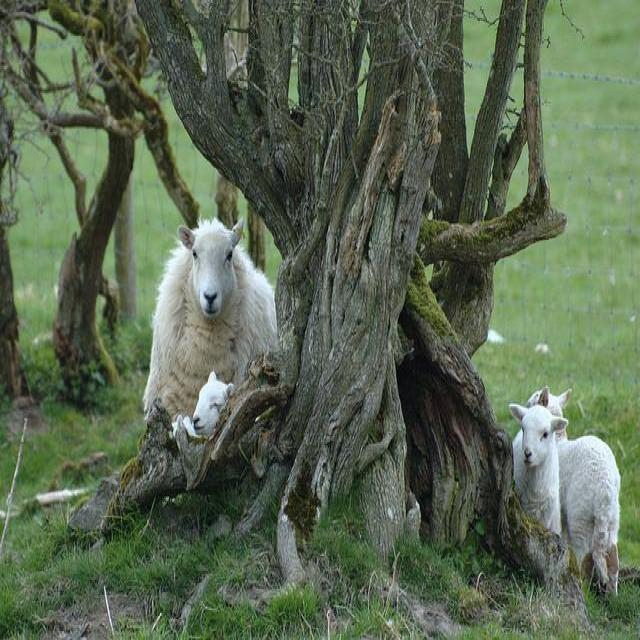Sheep: (144, 217, 279, 420), (510, 406, 625, 597), (171, 370, 237, 441)
